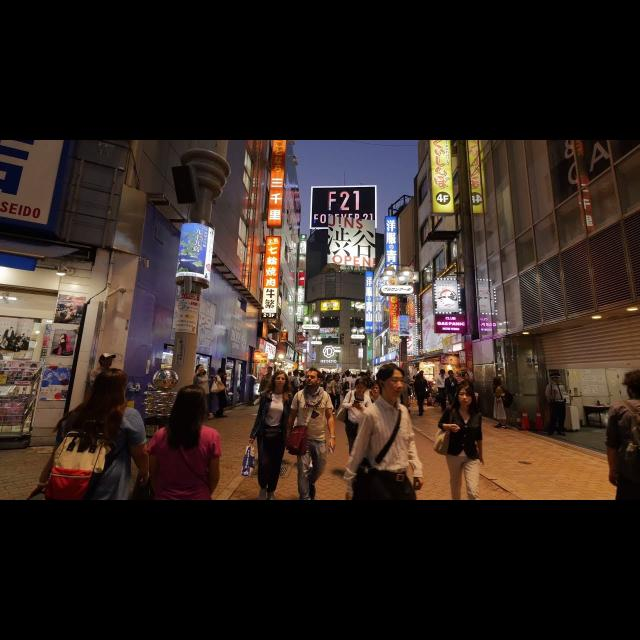head: (95, 368, 129, 406), (377, 364, 405, 401), (177, 386, 206, 418), (458, 385, 474, 407), (306, 368, 322, 386), (274, 370, 288, 388), (355, 379, 367, 395), (100, 355, 112, 367), (196, 364, 204, 374), (552, 374, 560, 384), (218, 368, 226, 377), (462, 373, 470, 381), (494, 378, 501, 386), (267, 366, 273, 374), (440, 369, 446, 377), (222, 372, 228, 380), (327, 375, 333, 381), (334, 375, 340, 381), (417, 374, 423, 380), (449, 371, 455, 377), (346, 372, 350, 376)
person: (335, 378, 375, 477), (84, 351, 122, 447), (542, 372, 570, 441), (192, 363, 220, 421), (252, 365, 278, 423), (490, 376, 514, 432), (209, 367, 231, 421), (456, 371, 478, 422), (412, 371, 432, 417), (443, 369, 461, 417), (434, 367, 451, 415), (331, 372, 345, 416), (323, 374, 337, 416), (341, 370, 355, 410), (219, 372, 229, 421)
